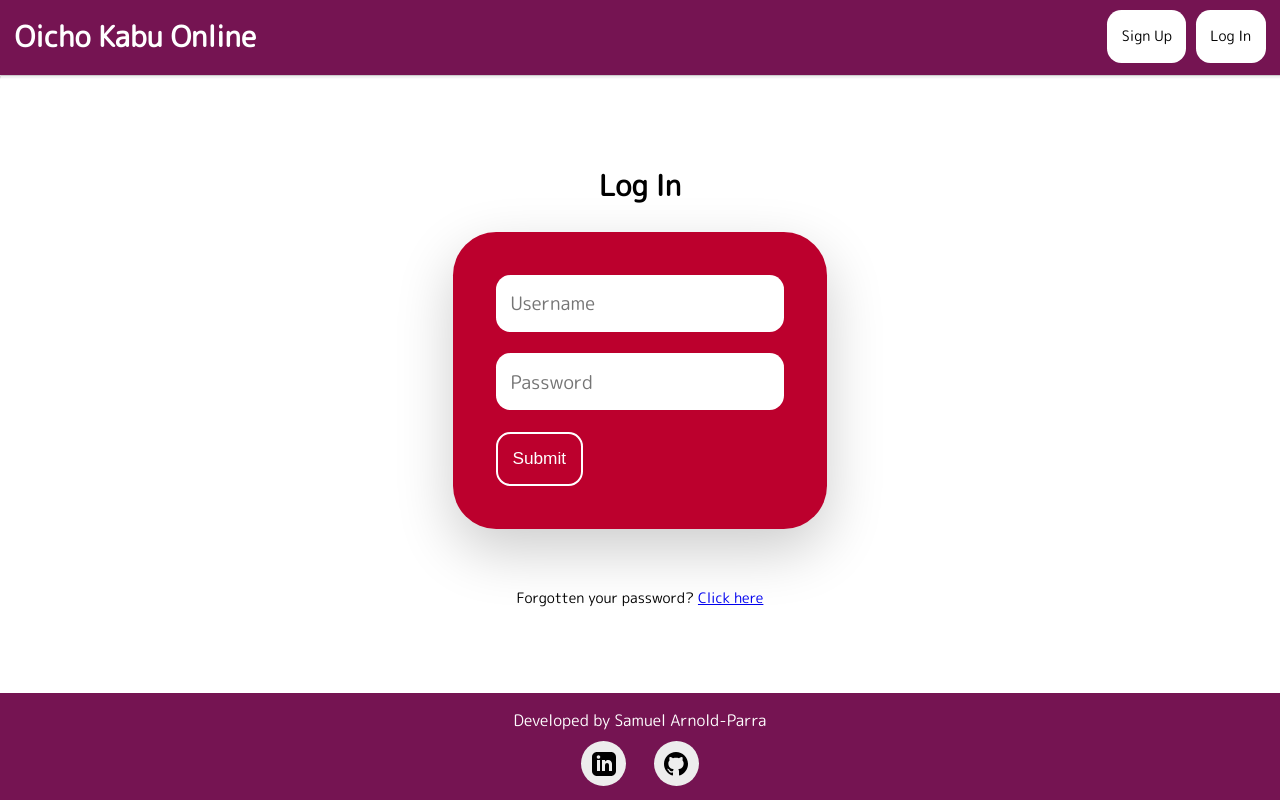
Test: Login › redirects the user when successful
Type "test_user" into the field with placeholder "Username" at point(640, 303), box left=496, top=275, right=784, bottom=332
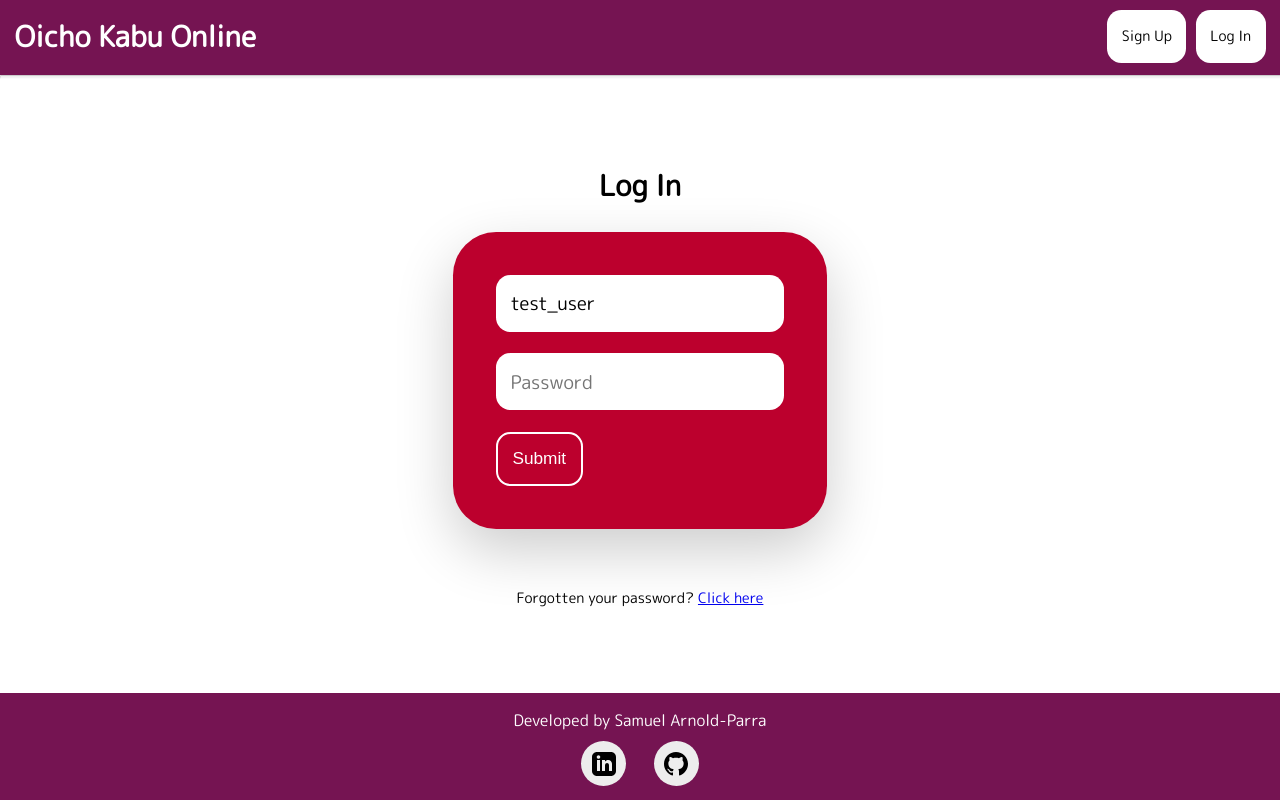
Type "testpass" into the password field with placeholder "Password" at point(640, 382), box left=496, top=353, right=784, bottom=410
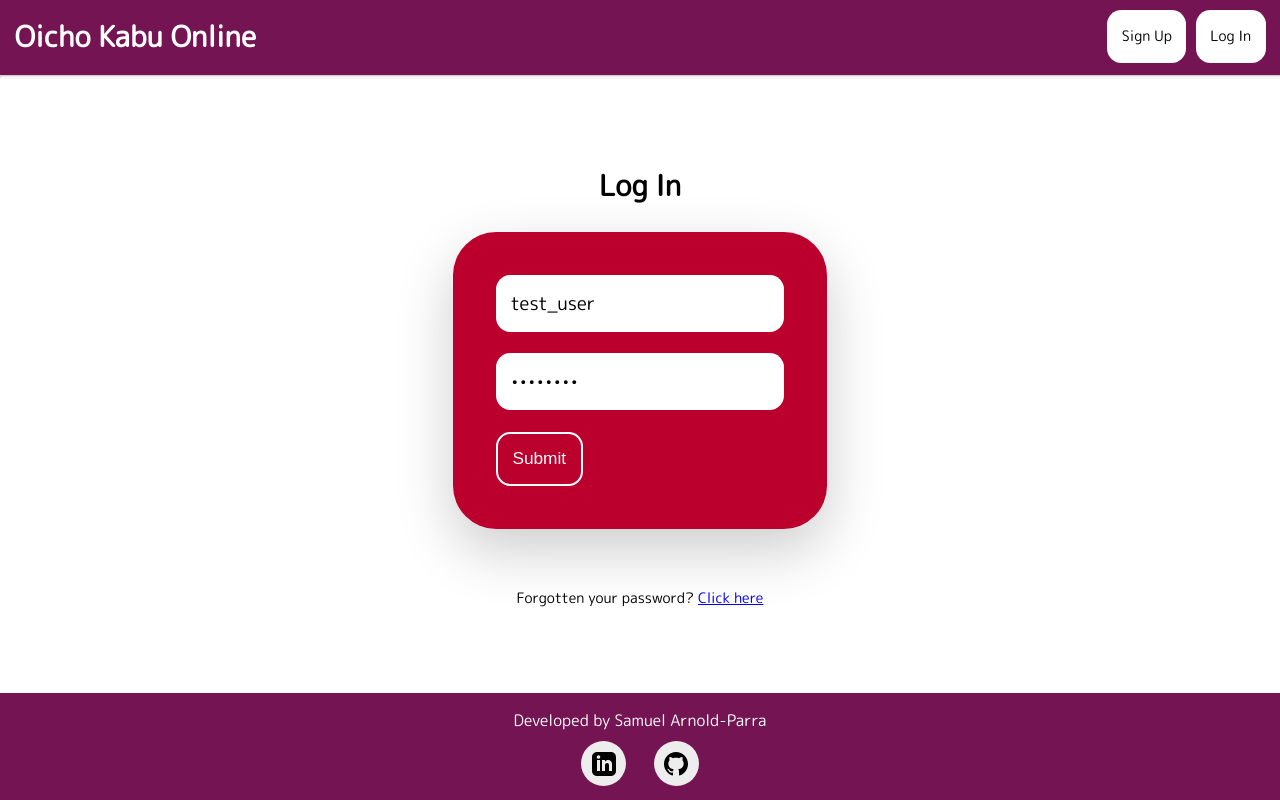
Click the button "Submit" at point(539, 459), box left=496, top=432, right=582, bottom=486
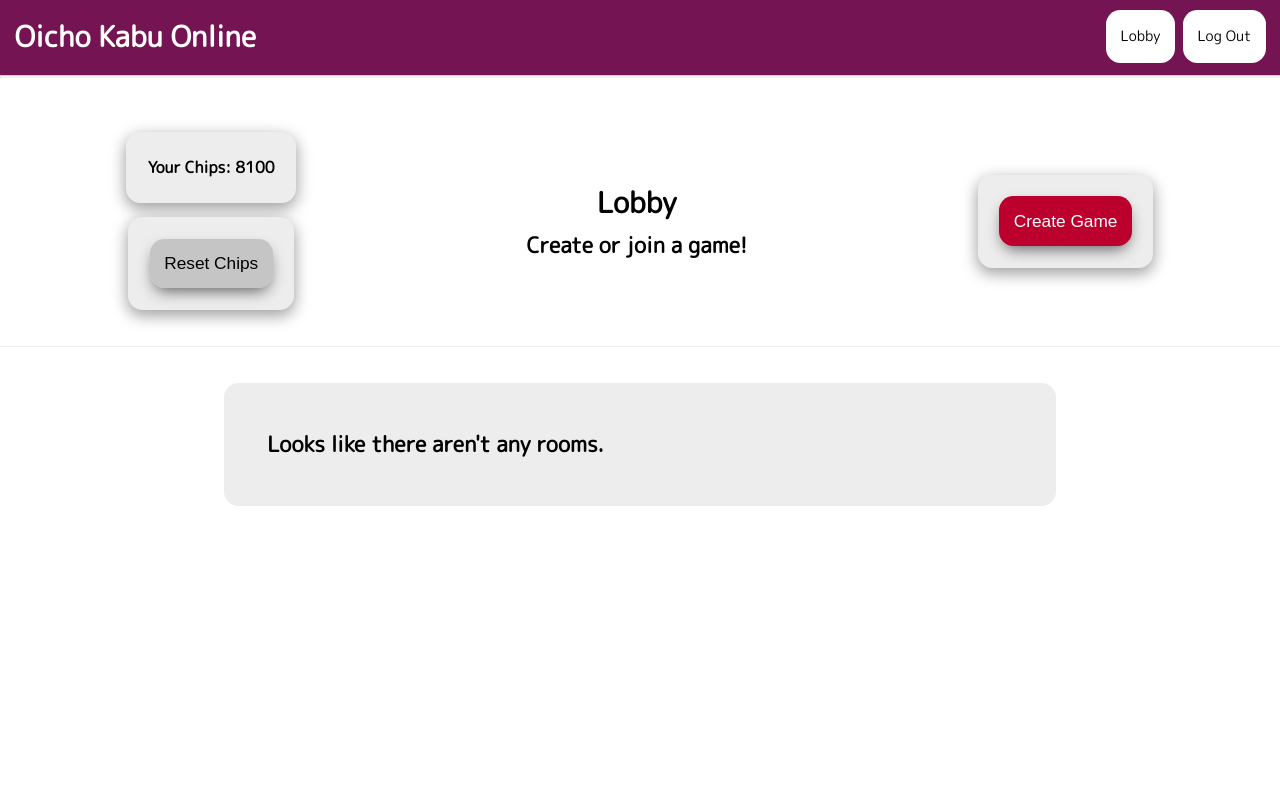
Now the heading "Create or join a game!" is shown, box left=527, top=227, right=747, bottom=264
